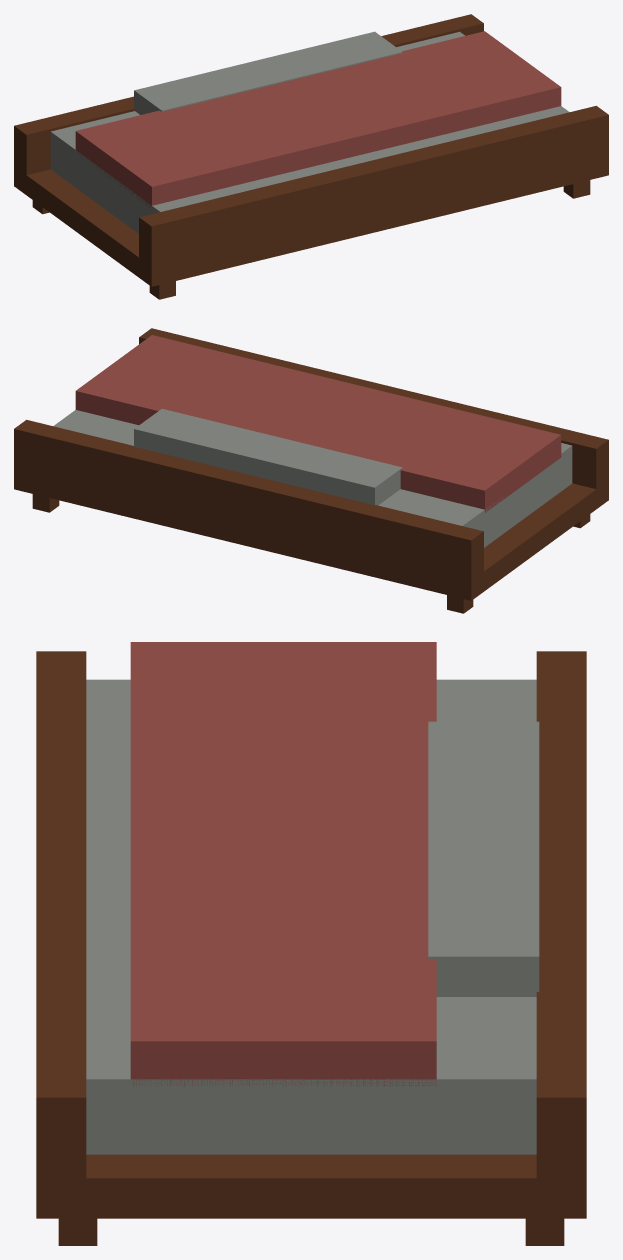
The model's file is flower_bed.glb.
3 views of the same model, one above another, from view 1: azimuth 30°, elevation 25°; view 2: azimuth 150°, elevation 25°; view 3: azimuth 270°, elevation 25° (orthographic). The views are drawn at different scales.
Visible parts, largest first — view 1: body; view 2: body; view 3: body.
Boxes of the visible parts, x1,y1,x2,y2 form: body: (14,14,608,299); body: (14,328,608,613); body: (36,642,586,1245).
Bounding box in the file's own units: 1.9 × 0.39 × 0.99.
1 material, 1 textured.
